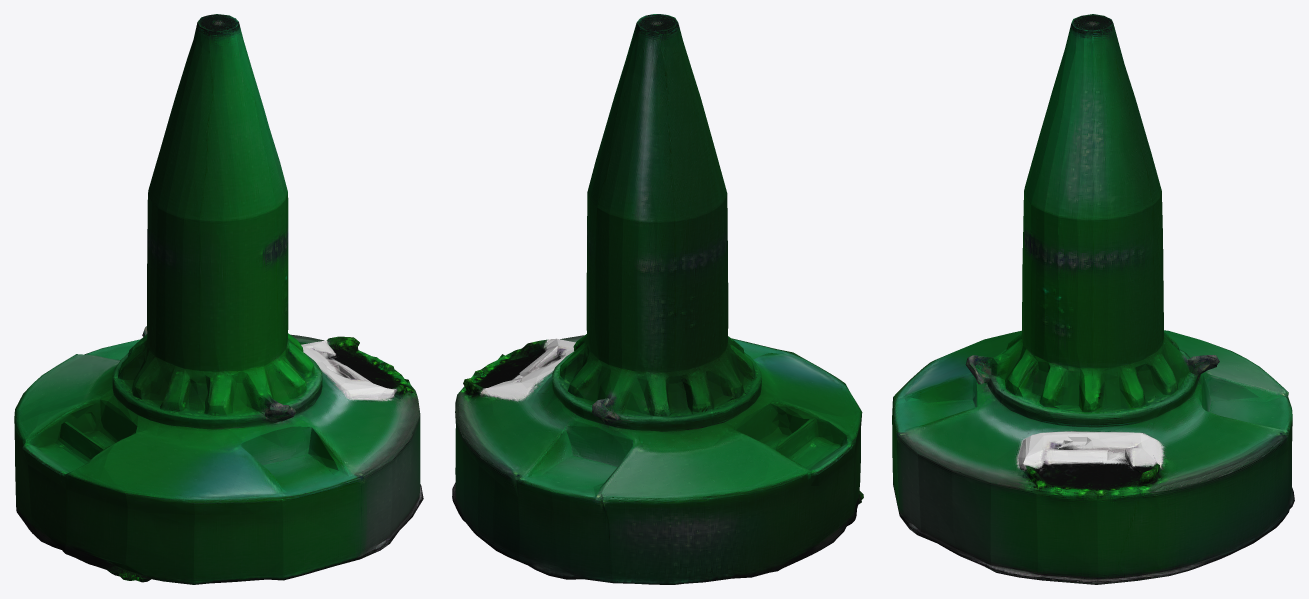
File: yeşil_duba54.glb
3 views of the same model, side by side, from view 1: azimuth 30°, elevation 25°; view 2: azimuth 150°, elevation 25°; view 3: azimuth 270°, elevation 25° (orthographic).
Visible parts, largest first — view 1: world; view 2: world; view 3: world.
Part boxes in pixels (left/top/right/bottom): world: left=14, top=14, right=423, bottom=584; world: left=452, top=14, right=863, bottom=584; world: left=892, top=14, right=1294, bottom=584.
Bounding box in the file's own units: 0.4229 × 0.5695 × 0.4144.
1 material, 1 textured.
